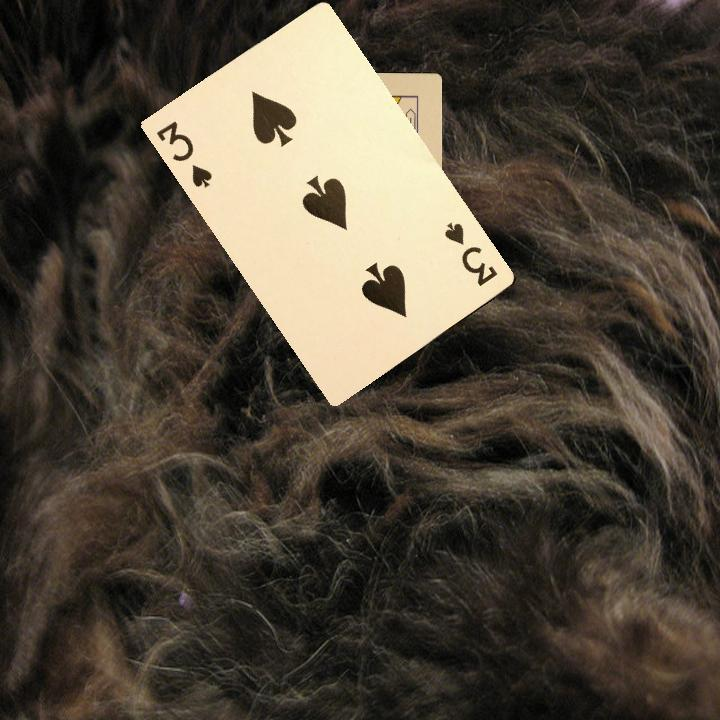3s: (152, 117, 215, 190), (439, 218, 500, 289)
